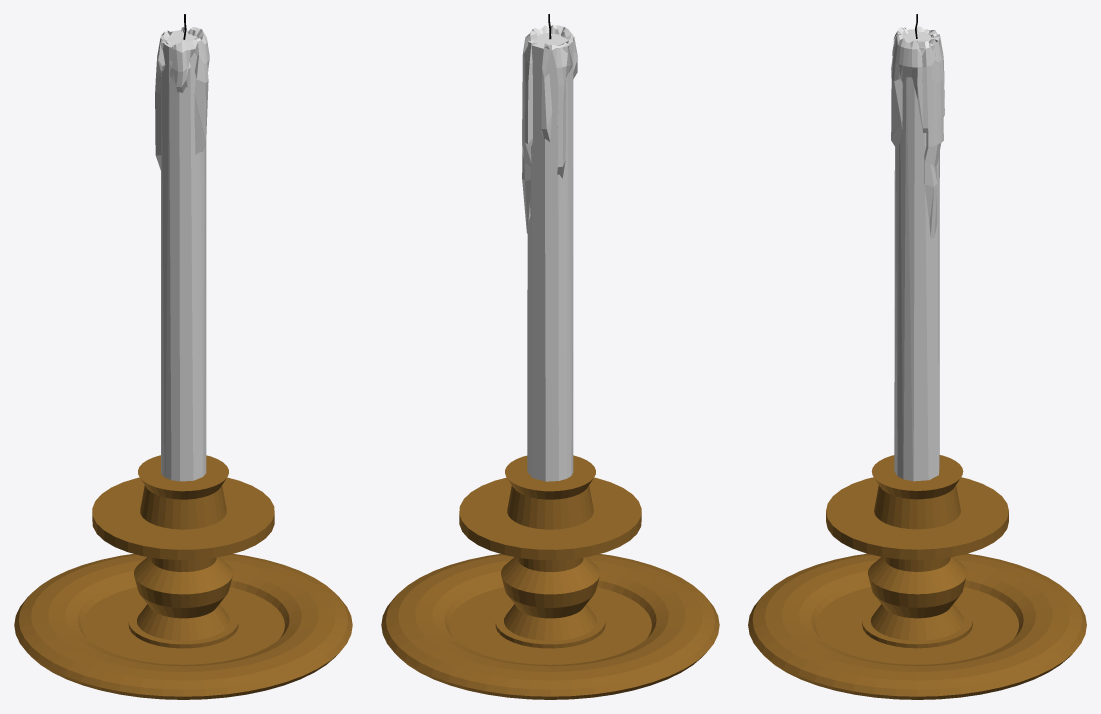
File: Kitchen_SmallProps_Candle-handle.fbx
3 views of the same model, side by side, from view 1: azimuth 30°, elevation 25°; view 2: azimuth 150°, elevation 25°; view 3: azimuth 270°, elevation 25° (orthographic).
Parts seen in each view (by area): view 1: Ljushållare, Ljus, Melted_part; view 2: Ljushållare, Ljus, Melted_part; view 3: Ljushållare, Ljus, Melted_part.
Boxes of the visible parts, <box> form: Ljushållare: <box>14,455,352,699</box>; Ljus: <box>161,30,206,481</box>; Melted_part: <box>155,26,209,170</box>; Ljushållare: <box>381,455,719,699</box>; Ljus: <box>527,33,573,481</box>; Melted_part: <box>522,25,577,233</box>; Ljushållare: <box>748,455,1086,699</box>; Ljus: <box>894,29,939,481</box>; Melted_part: <box>891,26,944,238</box>.
Bounding box in the file's own units: 14.81 × 29.98 × 14.81.
